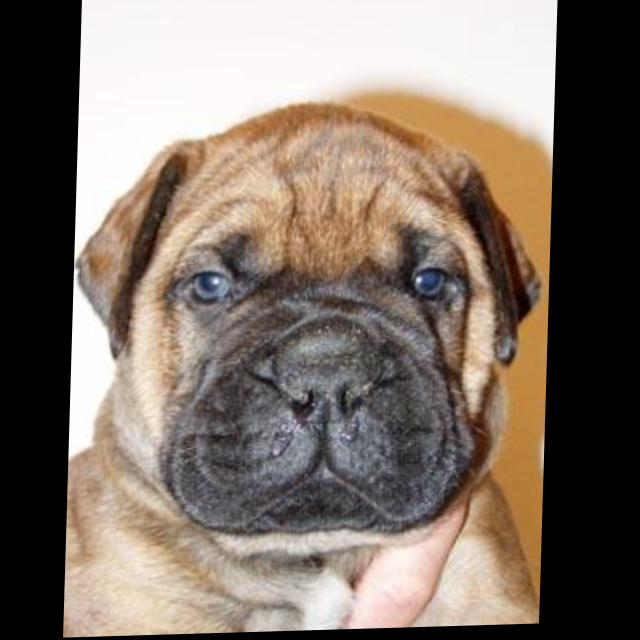bullmastiff: (68, 96, 556, 639)
